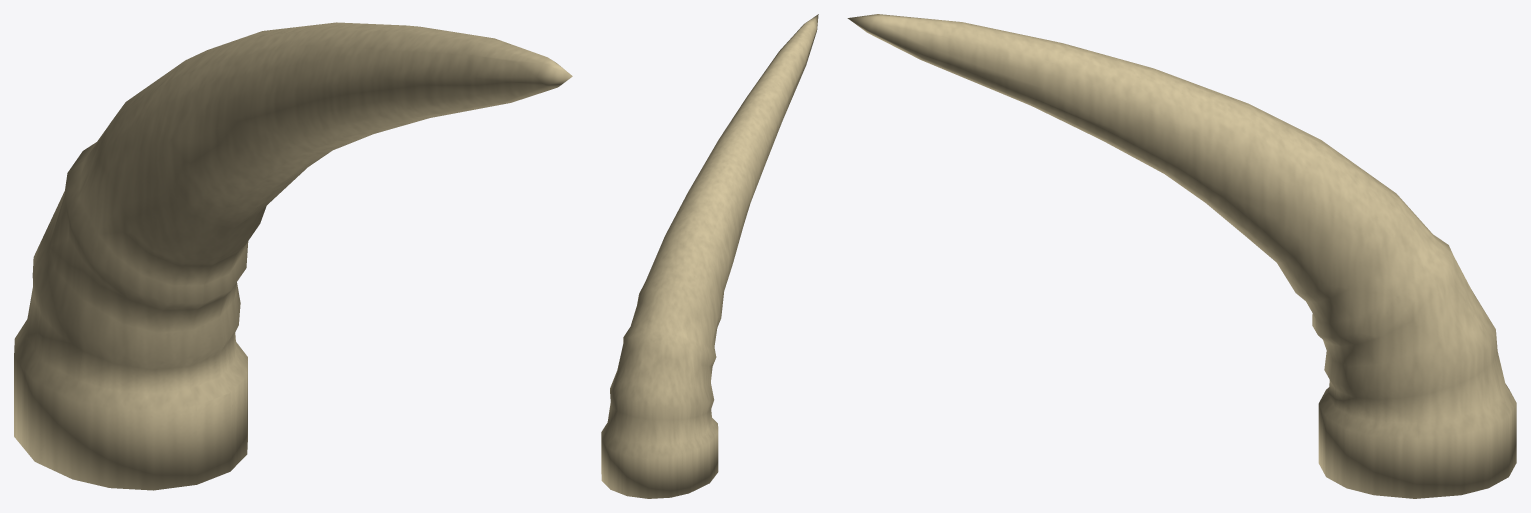
Rendered from cpart_horn_swept.glb.
3 views of the same model, side by side, from view 1: azimuth 30°, elevation 25°; view 2: azimuth 150°, elevation 25°; view 3: azimuth 270°, elevation 25° (orthographic). The views are drawn at different scales.
Visible parts, largest first — view 1: HornSwept; view 2: HornSwept; view 3: HornSwept.
Part boxes in pixels (box(x1,y1,x2,y2)): HornSwept: box(14, 22, 572, 490); HornSwept: box(601, 14, 818, 498); HornSwept: box(847, 14, 1516, 498).
Bounding box in the file's own units: 0.0567 × 0.1724 × 0.223.
Materials: 1 (1 with a texture image).
